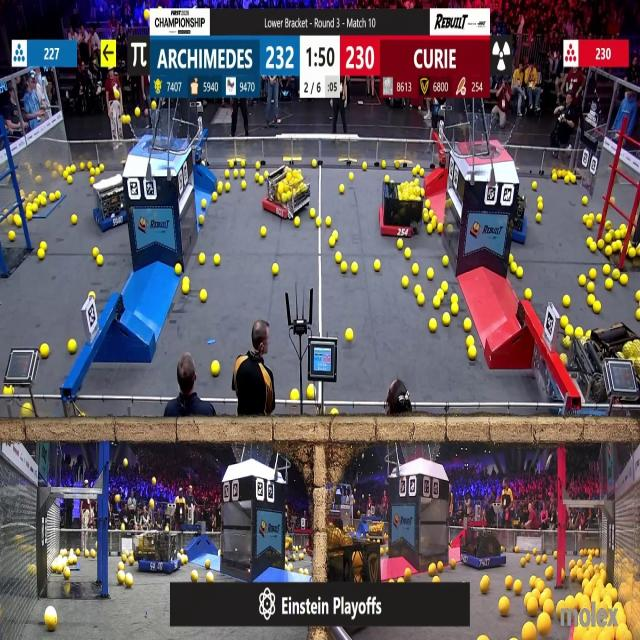ball_airborne: (121, 114, 129, 123), (114, 91, 120, 101), (136, 107, 141, 117), (149, 500, 154, 510), (144, 9, 149, 19), (151, 102, 156, 110)
ball_ground: (44, 610, 56, 631), (537, 616, 549, 637), (523, 624, 536, 640), (526, 599, 538, 616), (499, 598, 508, 616), (482, 578, 491, 595), (542, 600, 552, 614), (23, 406, 33, 419), (40, 344, 49, 358), (212, 360, 220, 375), (126, 573, 134, 587), (514, 582, 522, 596), (69, 341, 77, 354), (467, 347, 475, 360), (505, 576, 512, 590), (346, 328, 354, 340), (308, 386, 316, 398), (578, 275, 586, 287), (605, 278, 613, 290), (429, 319, 436, 332), (206, 571, 214, 582), (290, 389, 298, 400), (190, 570, 198, 581), (588, 282, 596, 293), (621, 275, 629, 286), (116, 572, 124, 583), (428, 564, 436, 575), (565, 325, 573, 336), (563, 294, 570, 306), (401, 276, 408, 288), (444, 314, 451, 326), (525, 288, 532, 300), (561, 316, 568, 328), (545, 567, 552, 579), (588, 294, 596, 304), (563, 338, 571, 348), (201, 289, 207, 302), (351, 264, 358, 275), (594, 303, 601, 314), (427, 269, 434, 280), (466, 337, 473, 348), (452, 305, 459, 316), (603, 266, 610, 277), (37, 249, 44, 260), (433, 296, 440, 307), (517, 268, 524, 279), (14, 216, 21, 227), (403, 248, 410, 259), (464, 319, 470, 331), (273, 265, 279, 277), (175, 266, 182, 276), (418, 294, 425, 304), (574, 327, 581, 337), (341, 264, 348, 274), (611, 270, 618, 280), (604, 246, 611, 256), (611, 242, 618, 252), (536, 582, 543, 592), (214, 254, 220, 265), (200, 253, 206, 264), (182, 283, 188, 294), (590, 270, 596, 281), (443, 281, 449, 292), (262, 226, 268, 237), (560, 353, 566, 364), (8, 233, 15, 242), (403, 568, 410, 577), (6, 386, 13, 395), (587, 219, 594, 228), (507, 254, 514, 263), (444, 256, 450, 266), (293, 217, 299, 227), (375, 262, 381, 272), (98, 255, 104, 265), (413, 266, 419, 276), (316, 217, 322, 227), (325, 216, 331, 226), (583, 197, 589, 207), (64, 568, 70, 578), (451, 559, 457, 569), (396, 240, 402, 250), (439, 562, 445, 572), (217, 182, 223, 192), (530, 576, 536, 586), (590, 243, 596, 253), (598, 239, 604, 249), (423, 212, 429, 222), (93, 248, 100, 256), (330, 410, 337, 418), (71, 215, 77, 224), (452, 293, 458, 302), (40, 242, 46, 251), (212, 191, 218, 200), (234, 170, 240, 179), (308, 208, 314, 217), (415, 285, 421, 294), (436, 223, 442, 232), (56, 190, 62, 199), (588, 238, 594, 247), (512, 265, 518, 274), (570, 175, 576, 184), (205, 560, 211, 569), (27, 211, 33, 220), (331, 232, 337, 241), (182, 556, 188, 565), (582, 214, 588, 223), (427, 223, 432, 233), (337, 252, 342, 262), (340, 184, 346, 192), (328, 239, 334, 247), (596, 214, 602, 222), (312, 161, 318, 169), (240, 170, 246, 178), (348, 173, 354, 181), (120, 555, 126, 563), (436, 289, 442, 297), (381, 162, 387, 170), (40, 199, 46, 207), (224, 182, 229, 191), (200, 215, 205, 224), (98, 163, 103, 172), (542, 555, 547, 564), (636, 290, 640, 301), (432, 575, 438, 582), (384, 176, 390, 183), (564, 176, 570, 183), (413, 169, 419, 176), (415, 179, 421, 186), (526, 555, 532, 562), (536, 213, 540, 223), (636, 310, 640, 320), (532, 182, 537, 190), (242, 181, 247, 189), (224, 170, 229, 178), (420, 170, 425, 178), (118, 563, 123, 571), (553, 174, 558, 182), (587, 329, 592, 337), (49, 192, 54, 200), (536, 556, 541, 564), (425, 200, 430, 208), (394, 162, 399, 170), (33, 205, 38, 213), (291, 554, 296, 562), (538, 203, 542, 212), (202, 200, 206, 209), (397, 576, 403, 582), (258, 177, 263, 184), (130, 558, 135, 565), (71, 166, 76, 173), (79, 164, 84, 171), (255, 163, 260, 170), (91, 290, 96, 297), (241, 162, 246, 169), (92, 551, 97, 558), (448, 224, 453, 231), (68, 176, 72, 184), (362, 164, 366, 172), (92, 177, 96, 185), (522, 558, 526, 566), (92, 168, 96, 176), (84, 552, 88, 560), (74, 557, 78, 565), (64, 171, 68, 179), (305, 568, 309, 576), (516, 545, 520, 552), (480, 636, 487, 640), (554, 553, 558, 560), (228, 160, 232, 167), (89, 163, 93, 170), (500, 545, 504, 552), (562, 568, 566, 575), (218, 551, 221, 557)
goal: (461, 116, 518, 158), (129, 116, 186, 152)
robot_blue: (136, 531, 183, 575), (93, 176, 129, 230), (460, 528, 503, 570), (509, 200, 530, 243)
robot_red: (264, 166, 311, 221), (379, 181, 423, 238)
